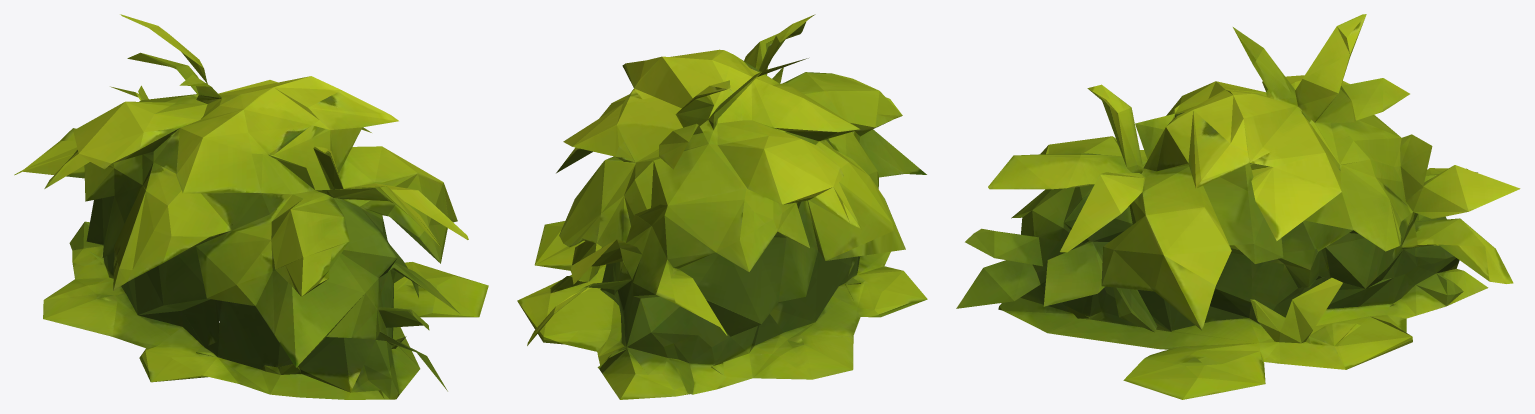
Rendered from KeepSakeGrassBush.glb.
3 renders of one model, left to right at view 1: azimuth 30°, elevation 25°; view 2: azimuth 150°, elevation 25°; view 3: azimuth 270°, elevation 25°, orthographic. The views are drawn at different scales.
Parts seen in each view (by area): view 1: tripo_node_5da222b8-9748-4b36-bde0-0e8915614762; view 2: tripo_node_5da222b8-9748-4b36-bde0-0e8915614762; view 3: tripo_node_5da222b8-9748-4b36-bde0-0e8915614762.
Part boxes in pixels (x1=…): tripo_node_5da222b8-9748-4b36-bde0-0e8915614762: x1=14, y1=14, x2=488, y2=399; tripo_node_5da222b8-9748-4b36-bde0-0e8915614762: x1=517, y1=14, x2=927, y2=399; tripo_node_5da222b8-9748-4b36-bde0-0e8915614762: x1=956, y1=14, x2=1520, y2=399.
Bounding box in the file's own units: 0.726 × 0.4948 × 0.9825.
1 material, 1 textured.
